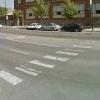Crosswalk: (2, 48, 76, 84)
